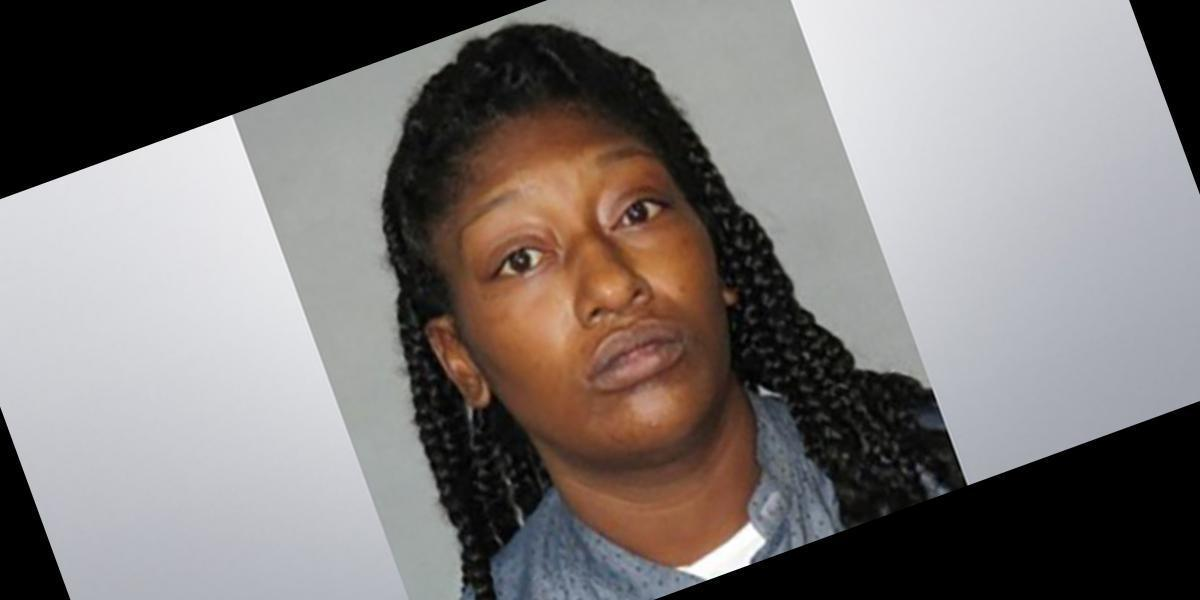Sober: (470, 157, 708, 411)
